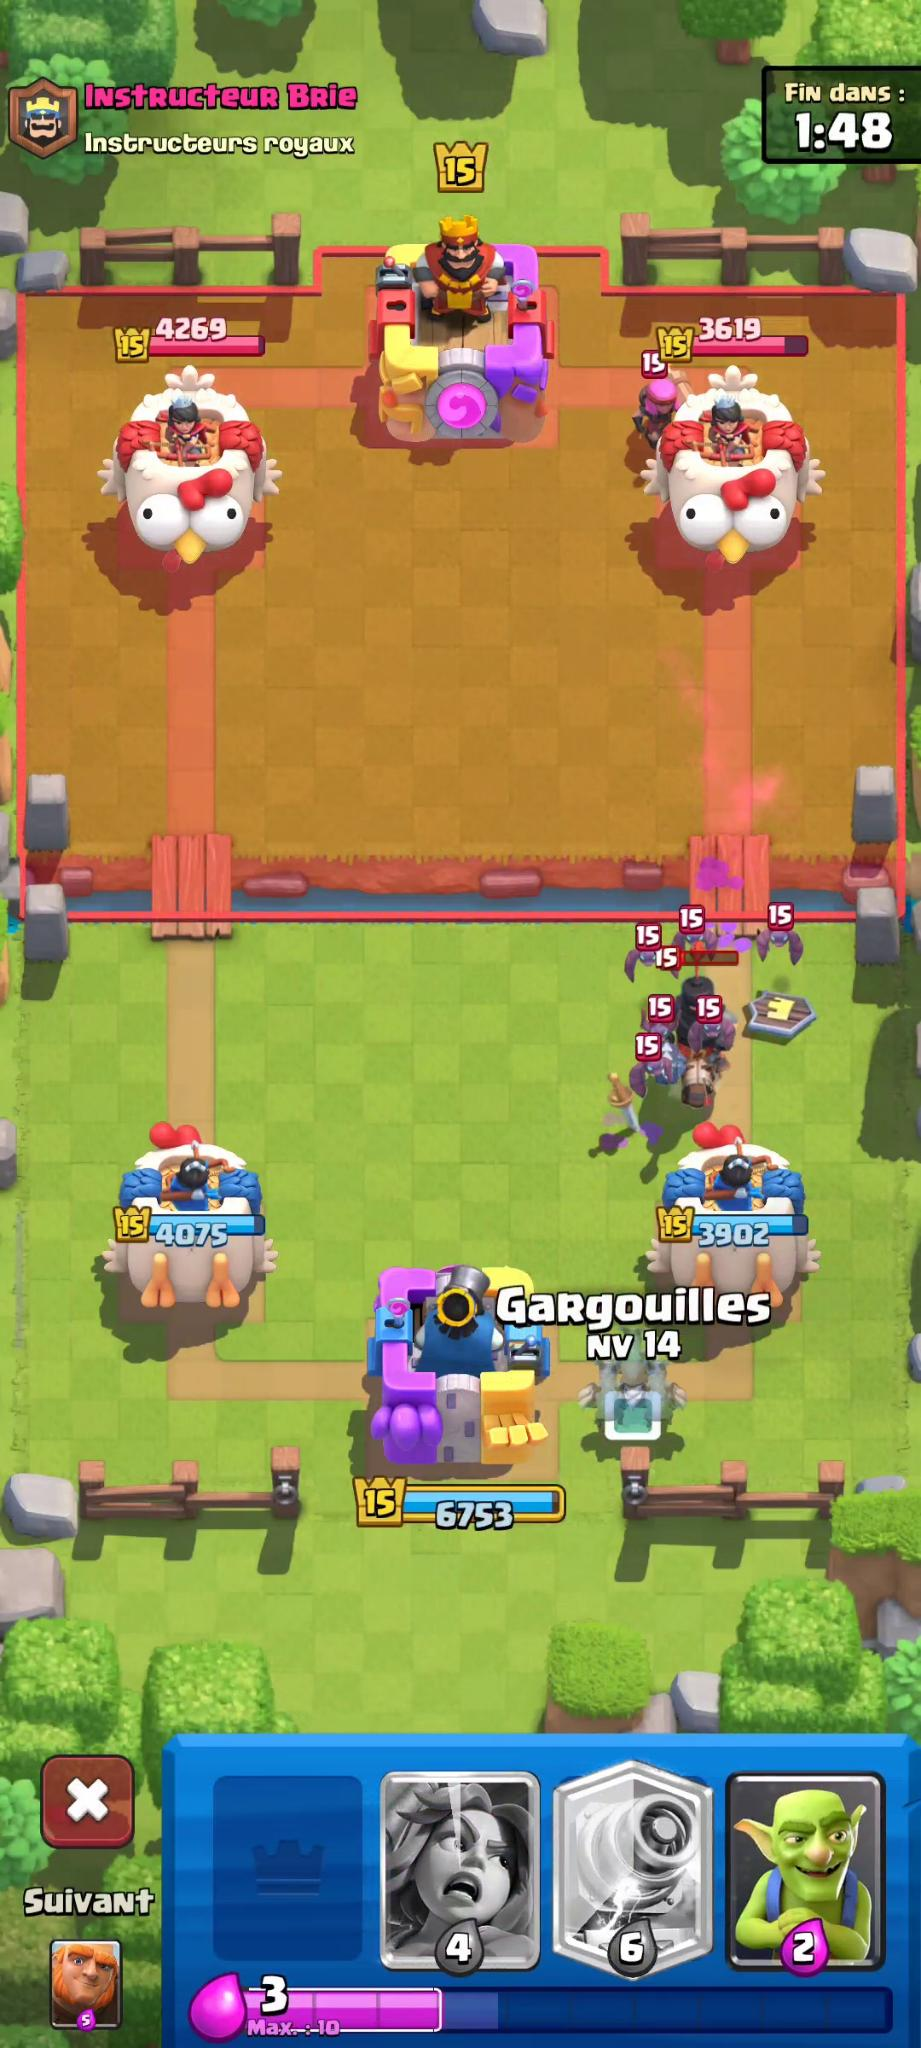bat: (686, 1006, 742, 1059), (623, 1050, 681, 1102), (755, 913, 814, 961), (613, 934, 675, 978), (669, 909, 722, 952), (634, 993, 678, 1041)
gargouille: (567, 1358, 627, 1429), (644, 1362, 696, 1430), (613, 1319, 661, 1384)
